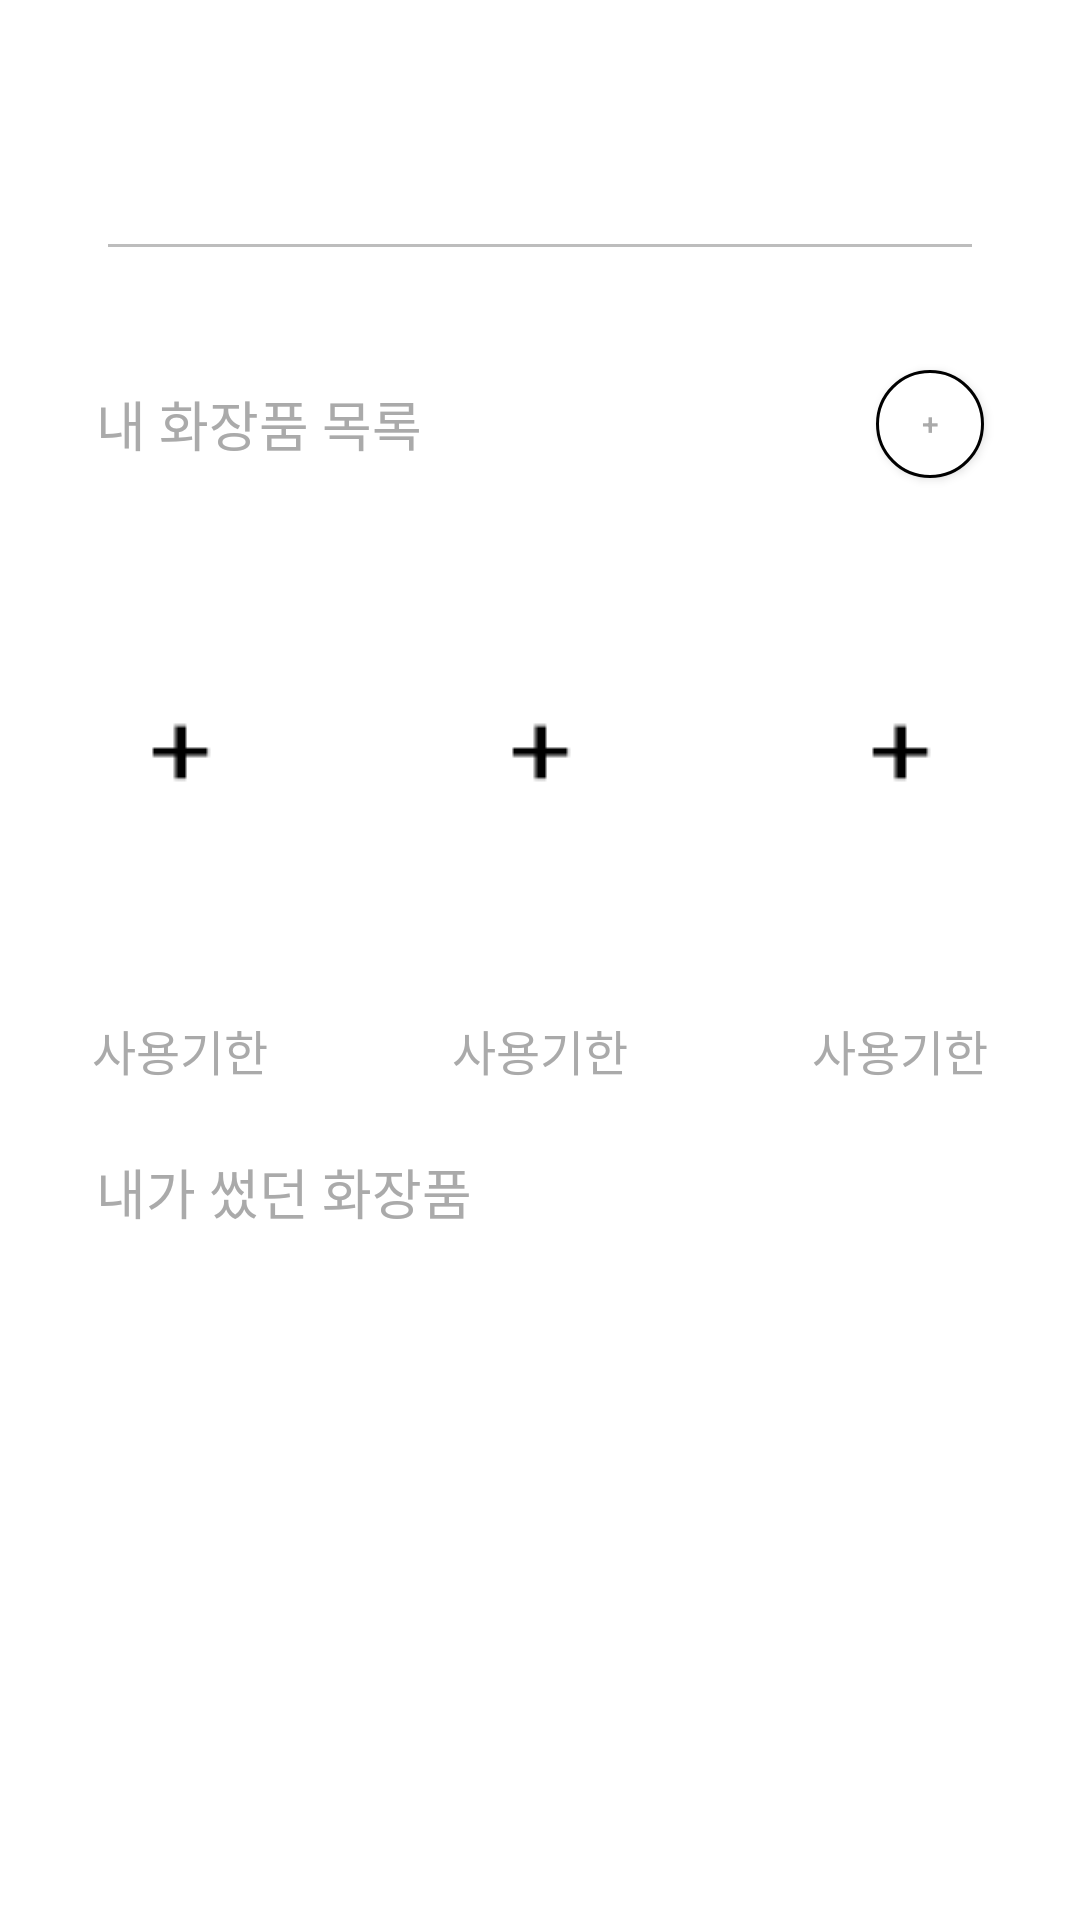

Icons on this 1080px x 1920px Android screen, each with the point to tap as (x=x, y=y):
add: (x=181, y=752), (x=541, y=752), (x=901, y=752)
